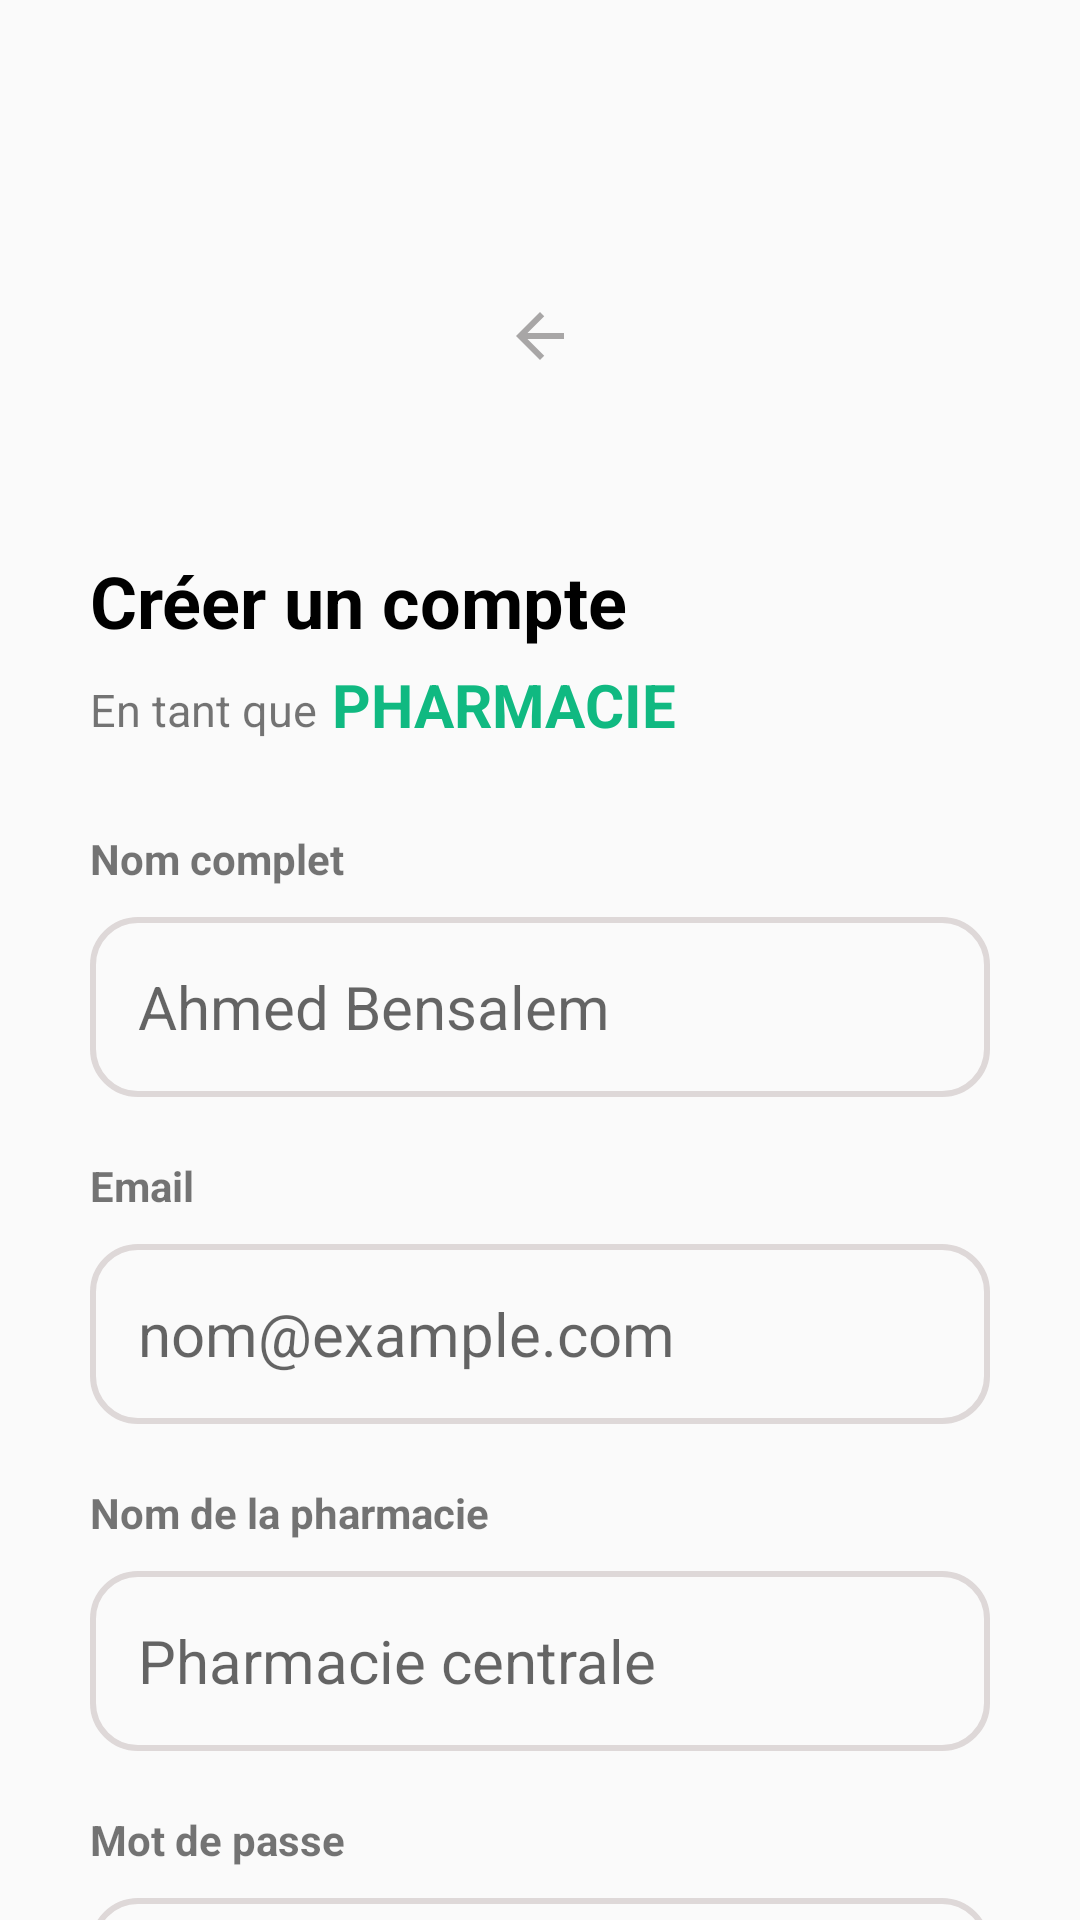

Icon bounding boxes for this 1080 × 1920 phone screenshot, format (x1, y1, x2, y2):
arrow back: (516, 312, 564, 360)
